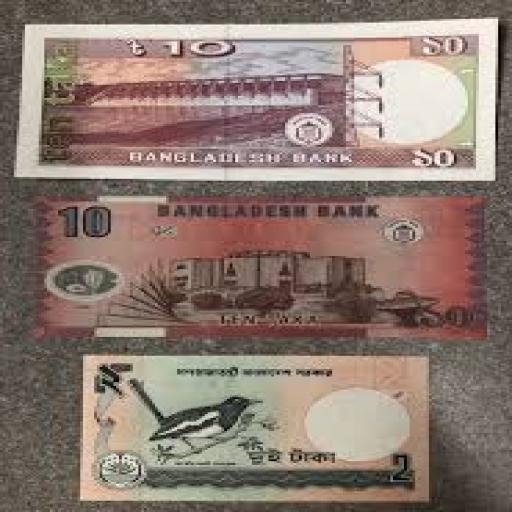10taka: (36, 196, 484, 335)
2taka: (83, 356, 426, 499)
